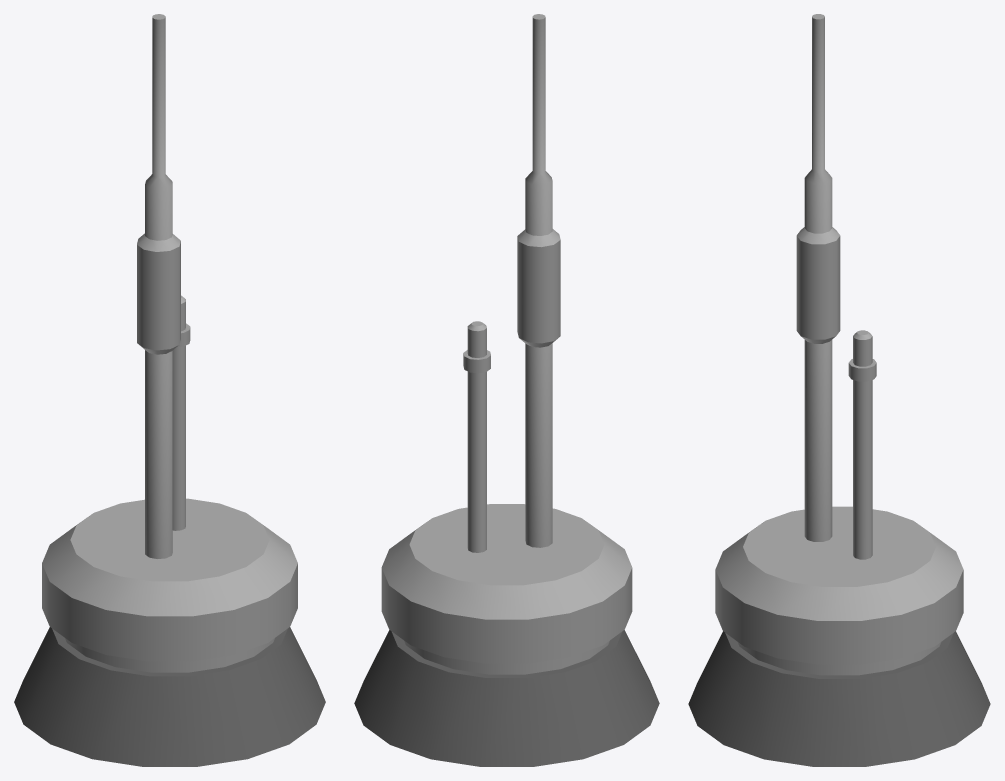
The model's file is Roof Antenna.glb.
3 renders of one model, left to right at view 1: azimuth 30°, elevation 25°; view 2: azimuth 150°, elevation 25°; view 3: azimuth 270°, elevation 25°, orthographic. The views are drawn at different scales.
Visible parts, largest first — view 1: Roof_Antenna; view 2: Roof_Antenna; view 3: Roof_Antenna.
Part boxes in pixels (x1,y1,x2,y2): Roof_Antenna: (14,14,325,766); Roof_Antenna: (354,14,659,766); Roof_Antenna: (688,14,990,766).
Bounding box in the file's own units: 1.41 × 3.54 × 1.43.
Materials: 1 (1 with a texture image).
